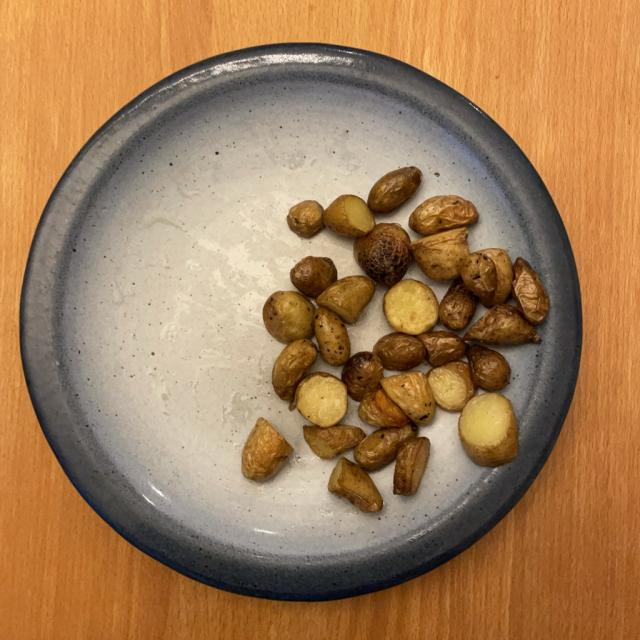baked-potato: (251, 169, 543, 508)
